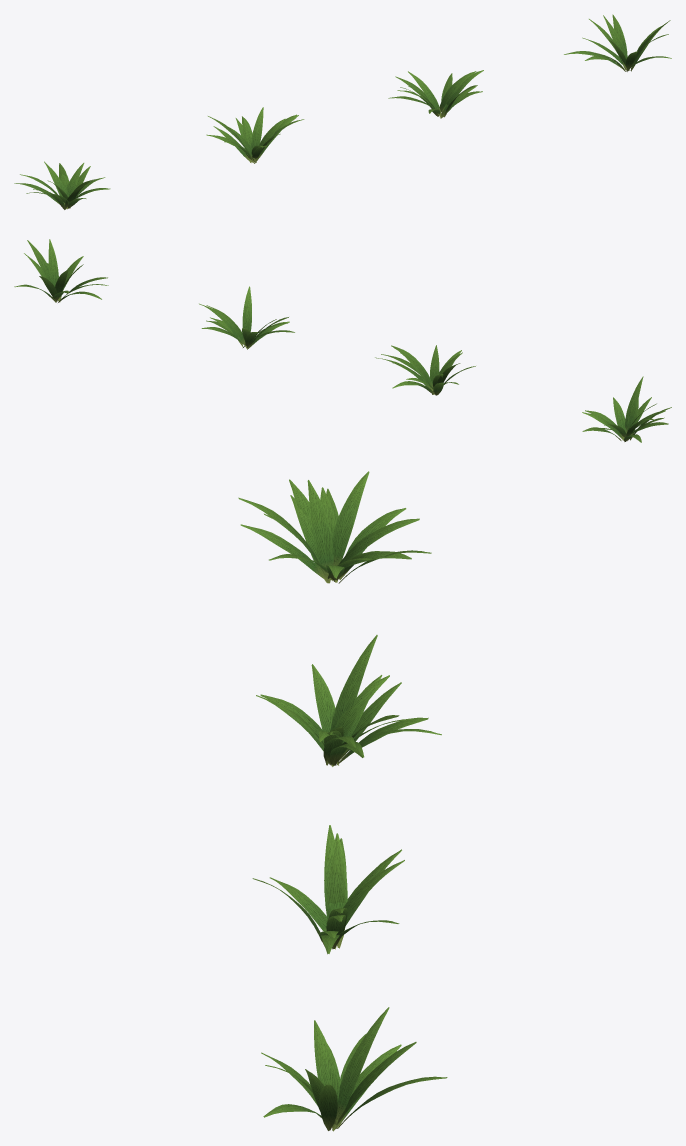
3 views of the same model, one above another, from view 1: azimuth 30°, elevation 25°; view 2: azimuth 150°, elevation 25°; view 3: azimuth 270°, elevation 25° (orthographic). The views are drawn at different scales.
Visible parts, largest first — view 1: java-fern.001, java-fern.002, java-fern.003, java-fern; view 2: java-fern, java-fern.003, java-fern.001, java-fern.002; view 3: java-fern, java-fern.001, java-fern.003, java-fern.002.
Boxes of the visible parts, x1=… form: java-fern.001: x1=206, y1=107, x2=304, y2=163; java-fern.002: x1=388, y1=70, x2=483, y2=118; java-fern.003: x1=564, y1=14, x2=671, y2=71; java-fern: x1=14, y1=161, x2=110, y2=209; java-fern: x1=582, y1=376, x2=671, y2=442; java-fern.003: x1=14, y1=239, x2=108, y2=302; java-fern.001: x1=375, y1=345, x2=475, y2=395; java-fern.002: x1=199, y1=286, x2=294, y2=349; java-fern: x1=238, y1=471, x2=431, y2=583; java-fern.001: x1=256, y1=635, x2=441, y2=766; java-fern.003: x1=261, y1=1007, x2=447, y2=1131; java-fern.002: x1=252, y1=825, x2=404, y2=954.
Bounding box in the file's own units: 10.24 × 0.7507 × 1.45.
Materials: 1 (1 with a texture image).
